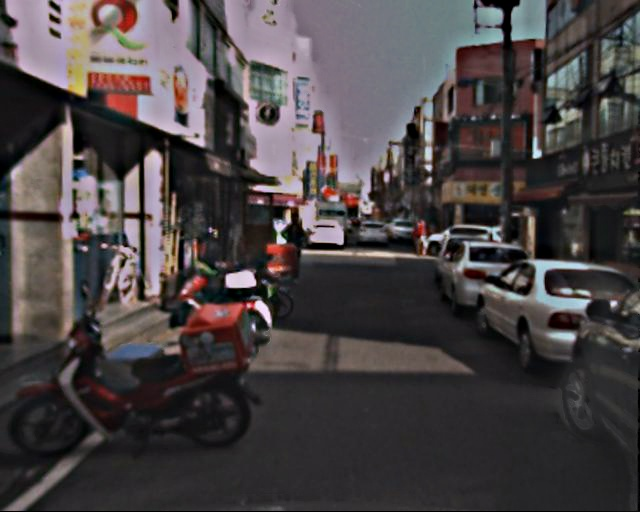person: (280, 213, 309, 284), (414, 220, 430, 255)
